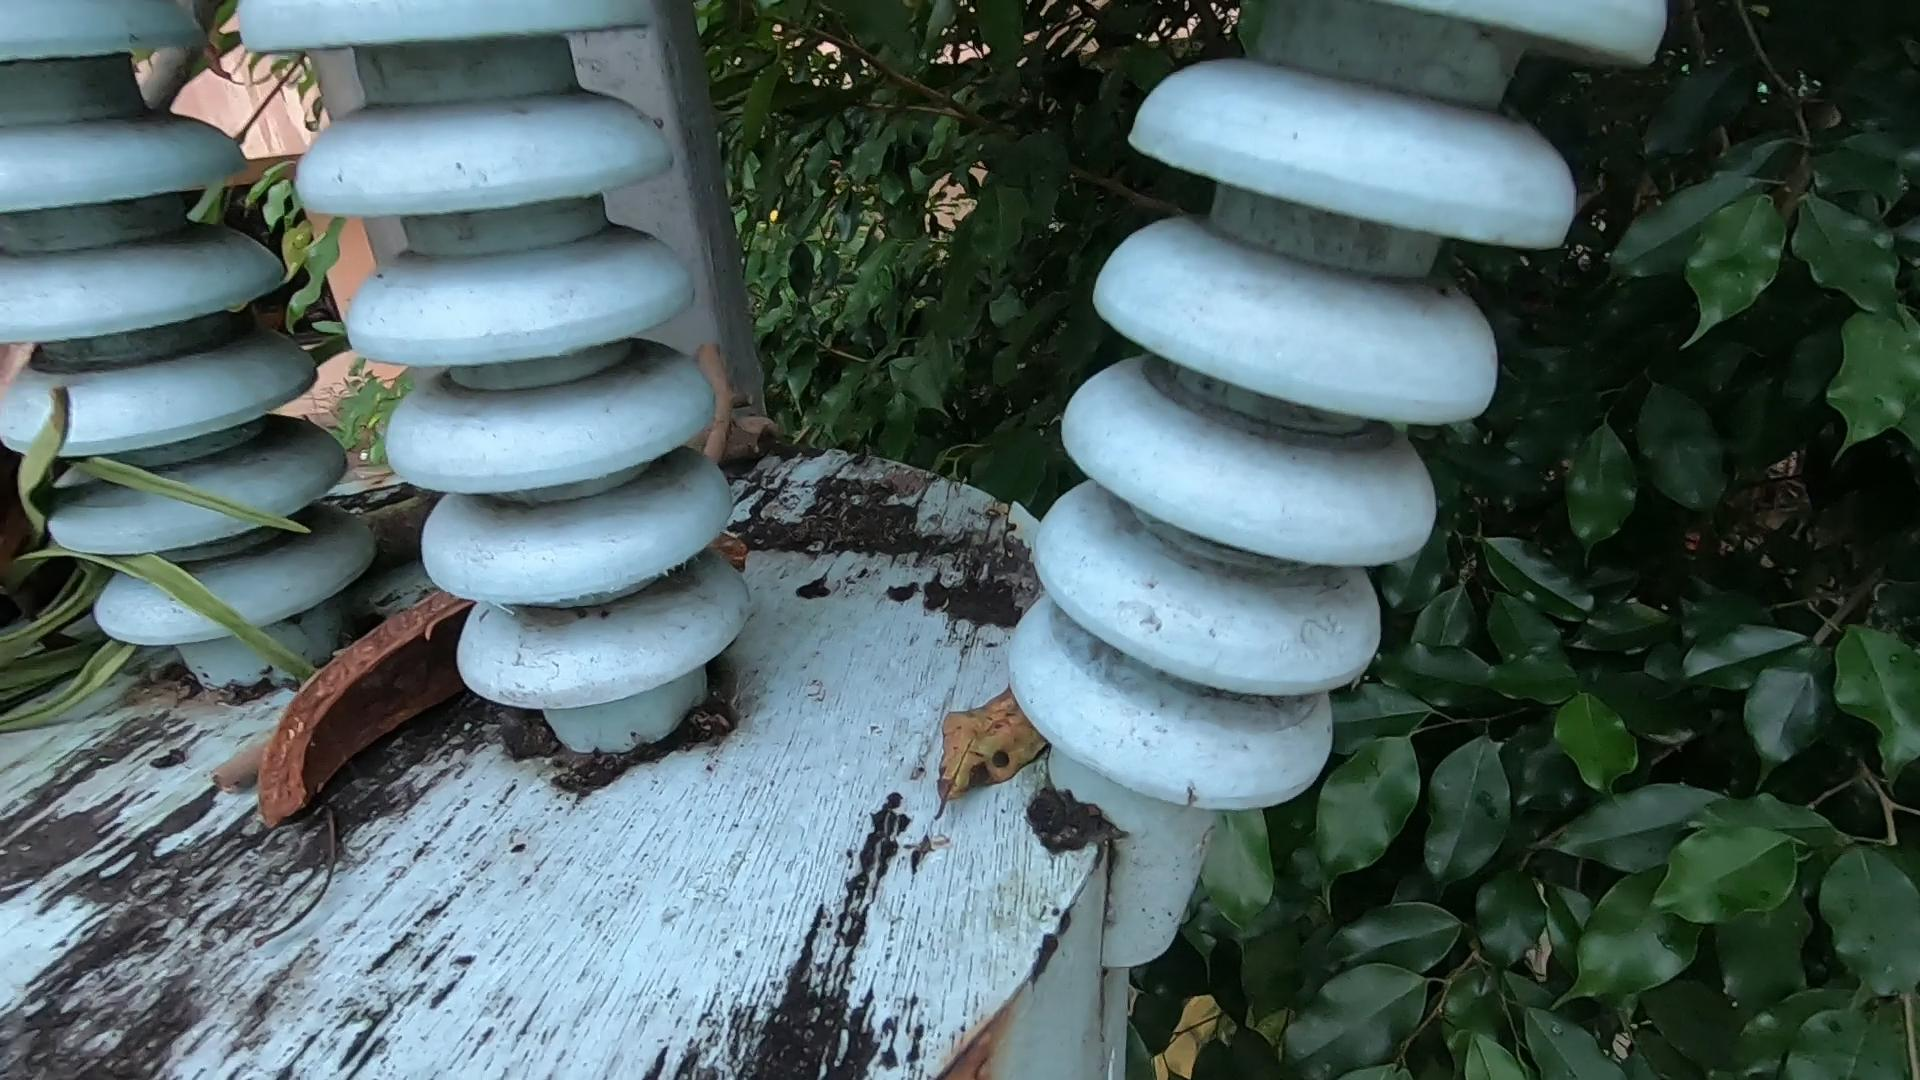branch with leaves: (683, 311, 781, 576)
leaf: (924, 657, 1101, 843)
mahogany fruit: (256, 501, 501, 926)
tree branch: (1, 421, 510, 815), (195, 717, 313, 804)
